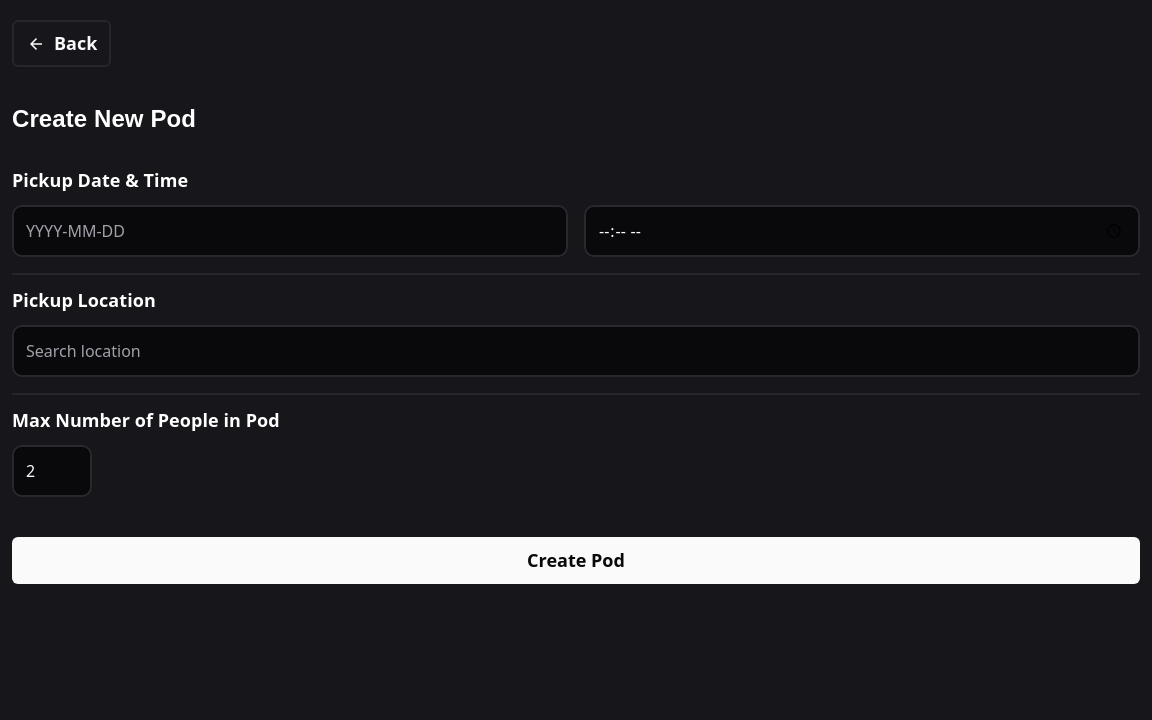
Scenario: CreatePodScreen › Location Search › shows dropdown when typing in location search
Type "Kirk" into the field with placeholder "Search location" at (576, 351), box [12,325,1140,377]
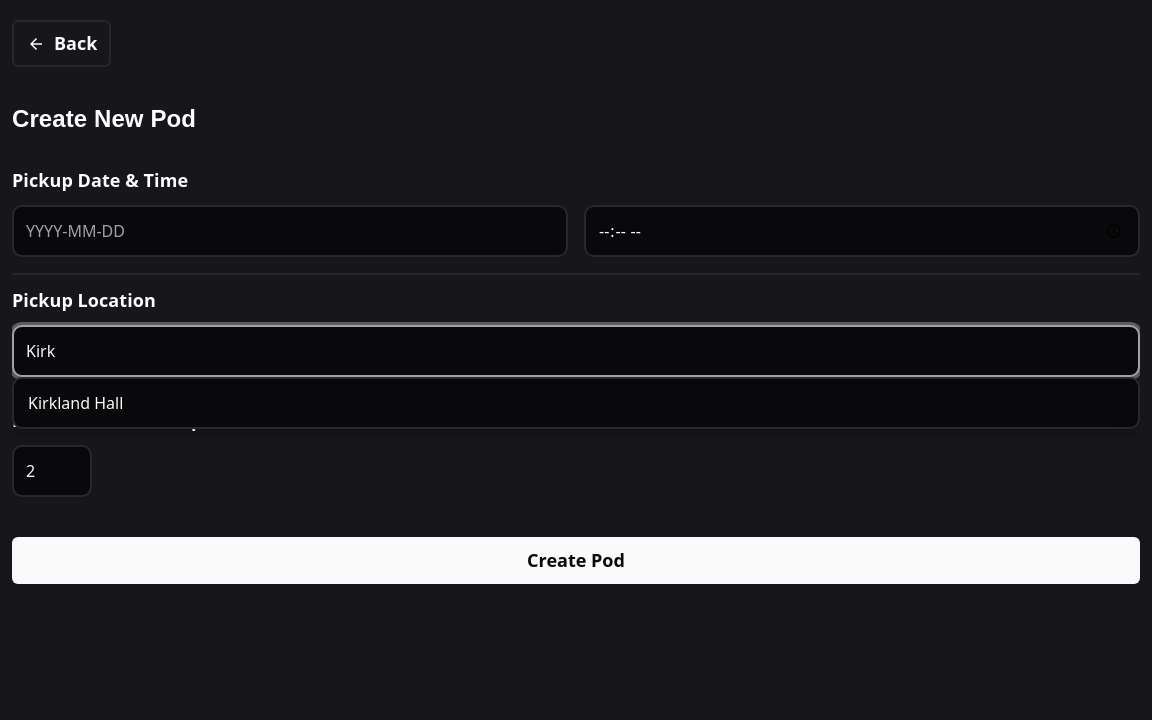
Check: the button "Kirkland Hall" is shown, box [14,379,1138,427]
